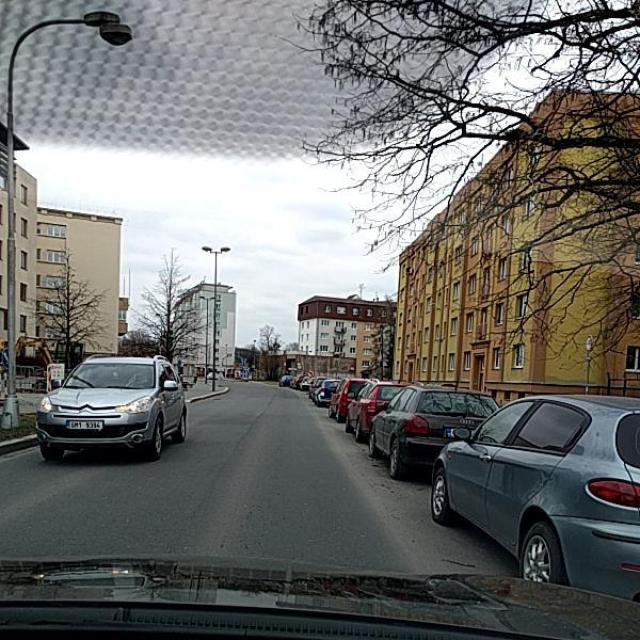Crack: (222, 378, 269, 594)
